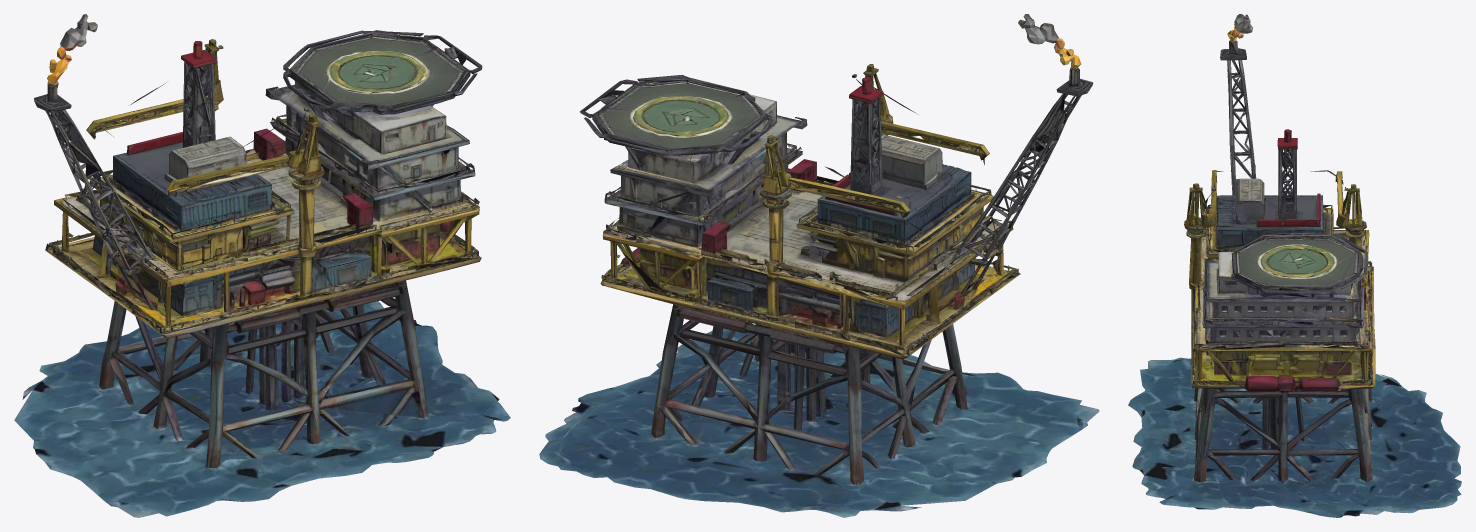
The model's file is distant_platform.glb.
3 renders of one model, left to right at view 1: azimuth 30°, elevation 25°; view 2: azimuth 150°, elevation 25°; view 3: azimuth 270°, elevation 25°, orthographic. The views are drawn at different scales.
Size of the model in its own units: 1.9 by 1.78 by 1.53.
1 material, 1 textured.
